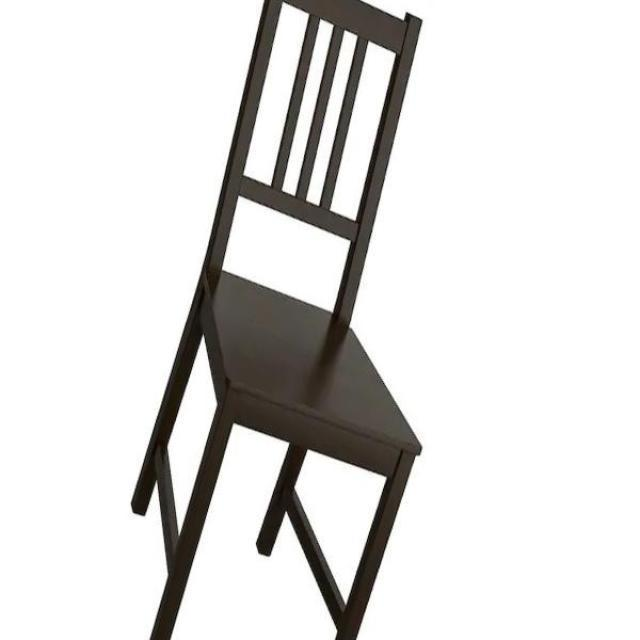chair: (129, 2, 429, 640)
